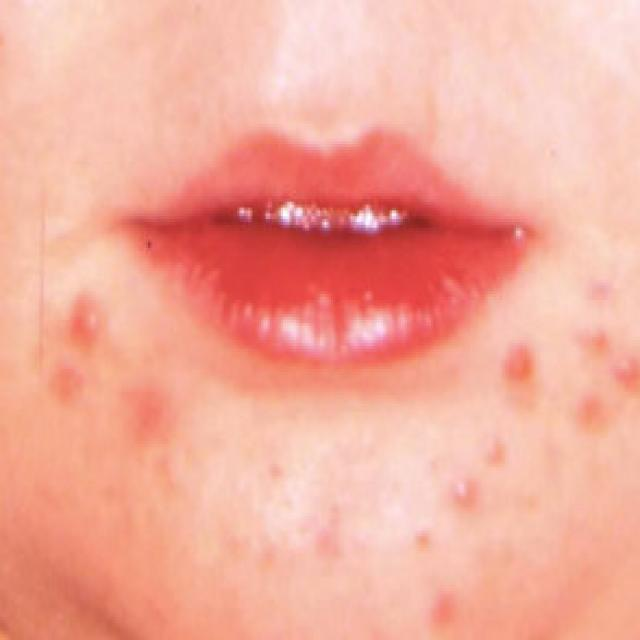blackheads: (502, 344, 539, 391), (605, 343, 640, 391), (71, 298, 106, 344), (448, 469, 477, 514), (449, 473, 481, 511), (582, 317, 613, 356), (467, 493, 473, 504)
